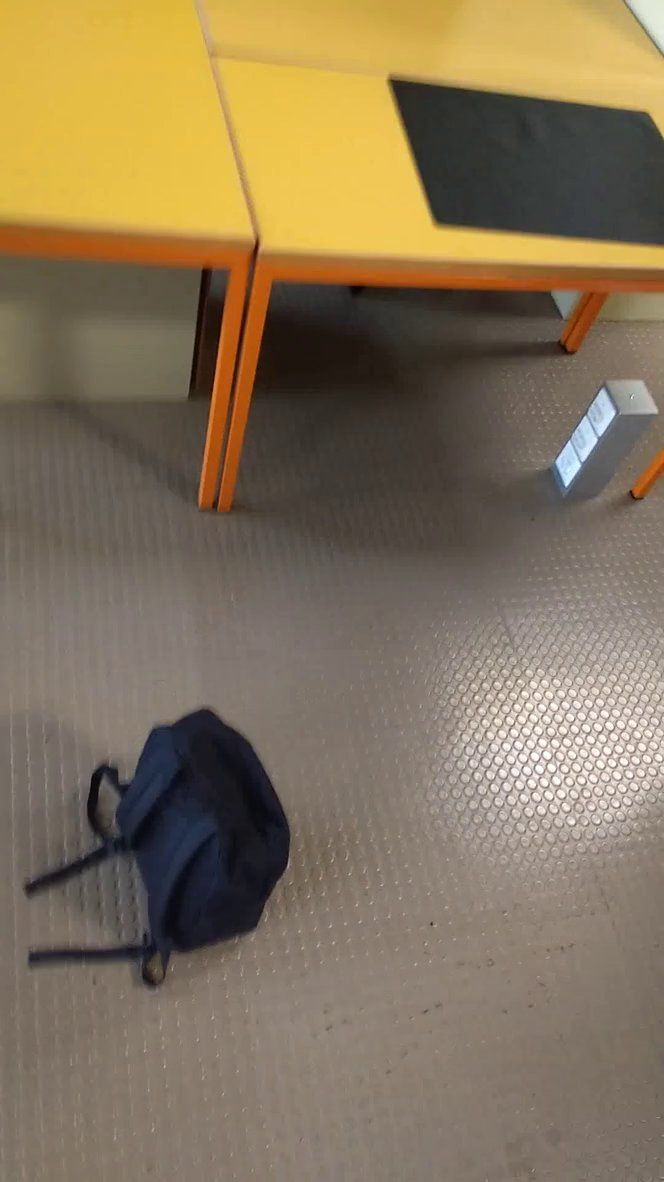bag: (23, 701, 304, 996)
